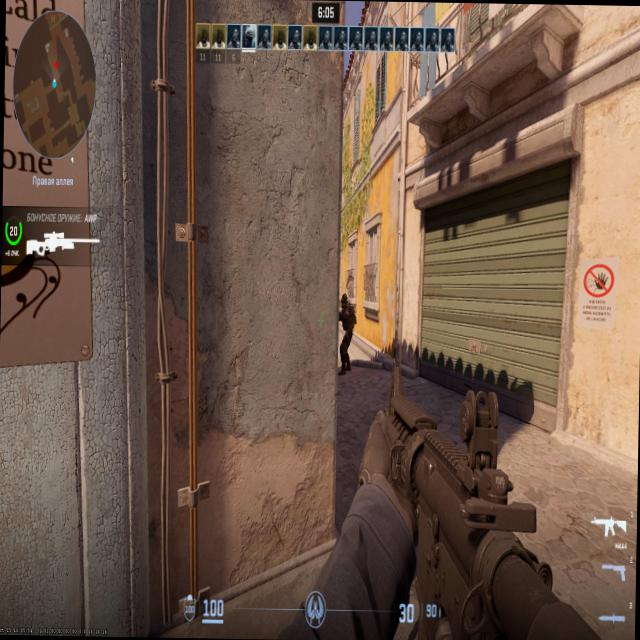CT: (338, 292, 354, 378)
CT_heat: (342, 295, 348, 309)
